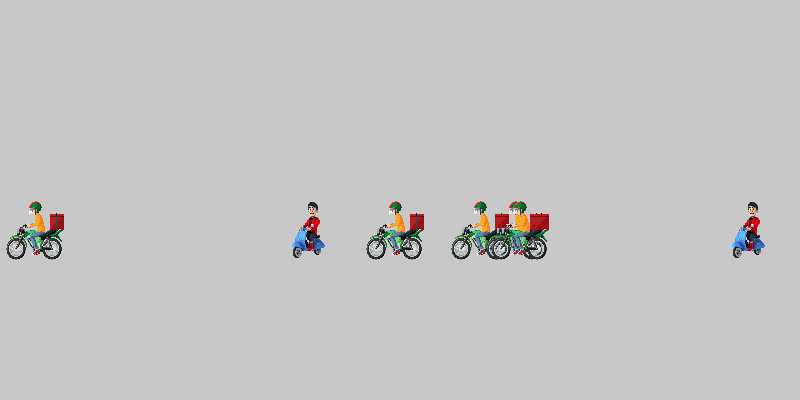helmet: (5, 200, 65, 260), (365, 200, 425, 260), (450, 200, 510, 260), (485, 200, 545, 260), (490, 200, 550, 260)
no_helmet: (280, 200, 340, 260), (720, 200, 780, 260)
